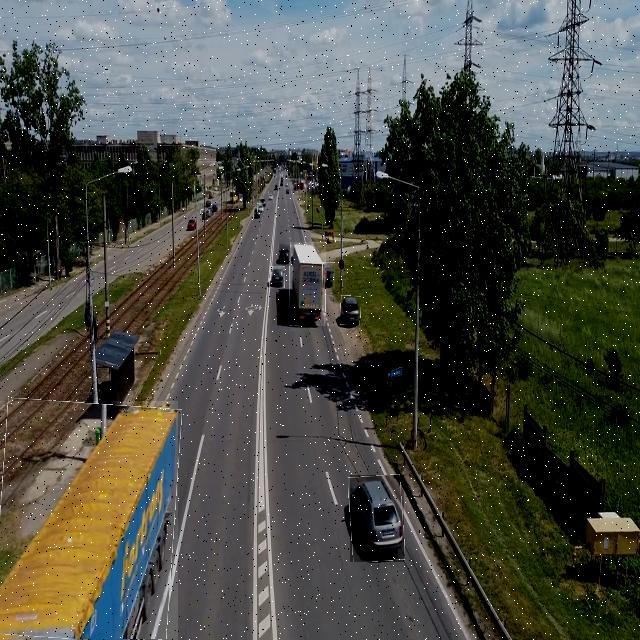Car: (350, 475, 404, 562), (341, 296, 361, 325), (322, 262, 335, 289), (270, 266, 285, 288), (278, 244, 290, 266), (186, 217, 198, 231), (201, 209, 210, 220), (204, 198, 212, 210), (253, 207, 260, 219), (268, 191, 274, 203), (257, 203, 264, 212), (212, 204, 218, 214)
Truck: (0, 401, 178, 640), (290, 242, 326, 326)
